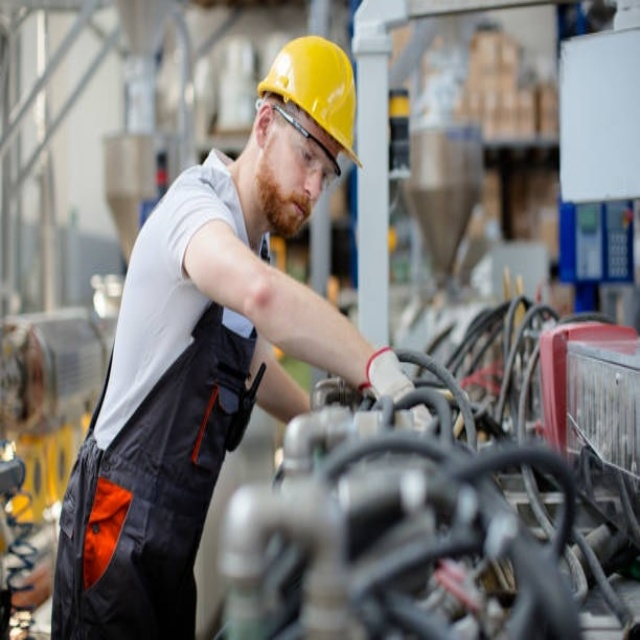Gafas: (265, 99, 344, 186)
Guantes: (362, 346, 430, 432)
Sin_guantes: (11, 560, 53, 611)
Sin_mascara: (279, 187, 314, 231)
